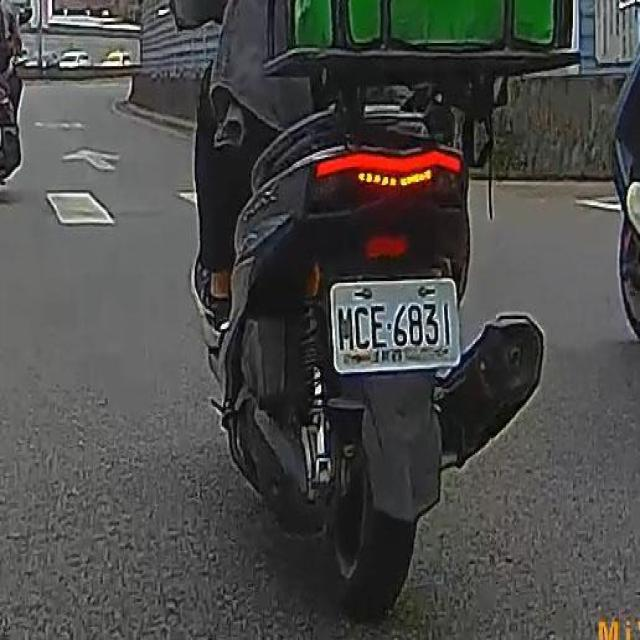license-plate: (330, 279, 462, 370)
